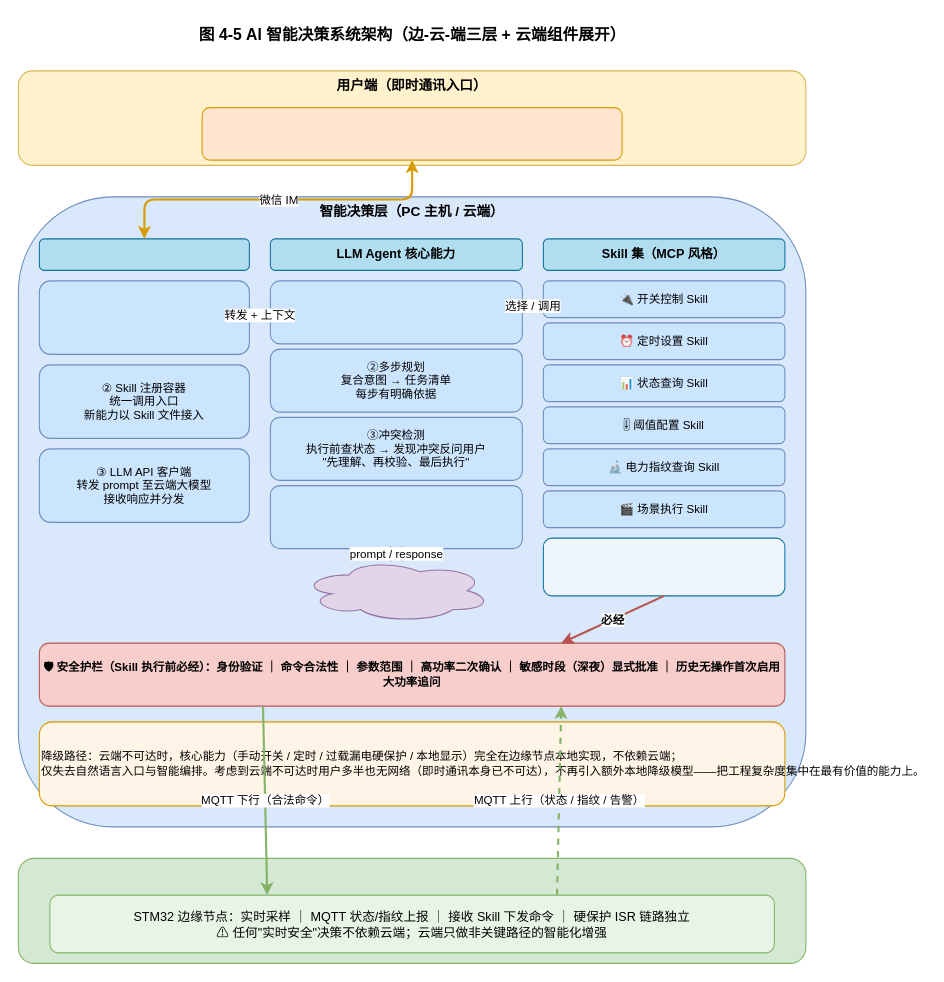
Some shapes in this 944 by 982 pixel diagram are drawn without their labels. Each missing label, with the box of its shape:
MCP Skill Schema： { 能力描述 ｜ 参数 schema ｜ 返回 schema } 模型基于自然语言描述自主选择调用: (542, 537, 785, 596)
OpenClaw 容器（三个角色）: (38, 238, 249, 270)
① 即时通讯桥接 微信 ↔ Agent 消息转译 用户身份识别 + 上下文维护: (38, 280, 249, 354)
①意图理解 自然语言 → 结构化 Skill 调用 非关键词匹配，模型语义推断: (269, 280, 522, 344)
④场景编排 "看电影/睡觉/离家" → 多路插座组合 场景库可对话补充修改: (269, 485, 522, 549)
外部 LLM API （云端大模型）: (301, 558, 491, 622)
微信用户 自然语言指令｜对话式追问｜异常告警接收: (201, 107, 622, 160)
边缘软件层（STM32 节点，详见 图 4-3）: (17, 857, 806, 963)
